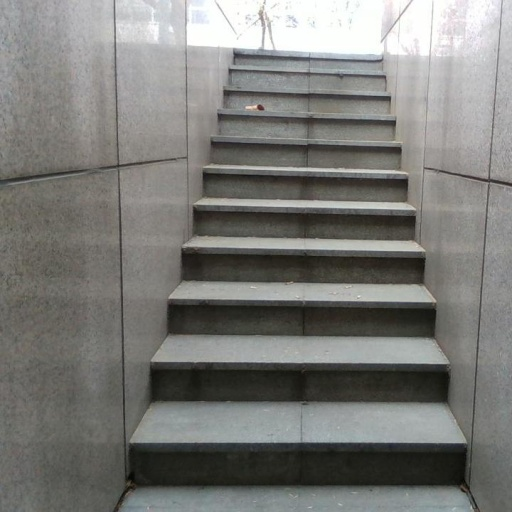Stairs: (120, 50, 472, 512)
